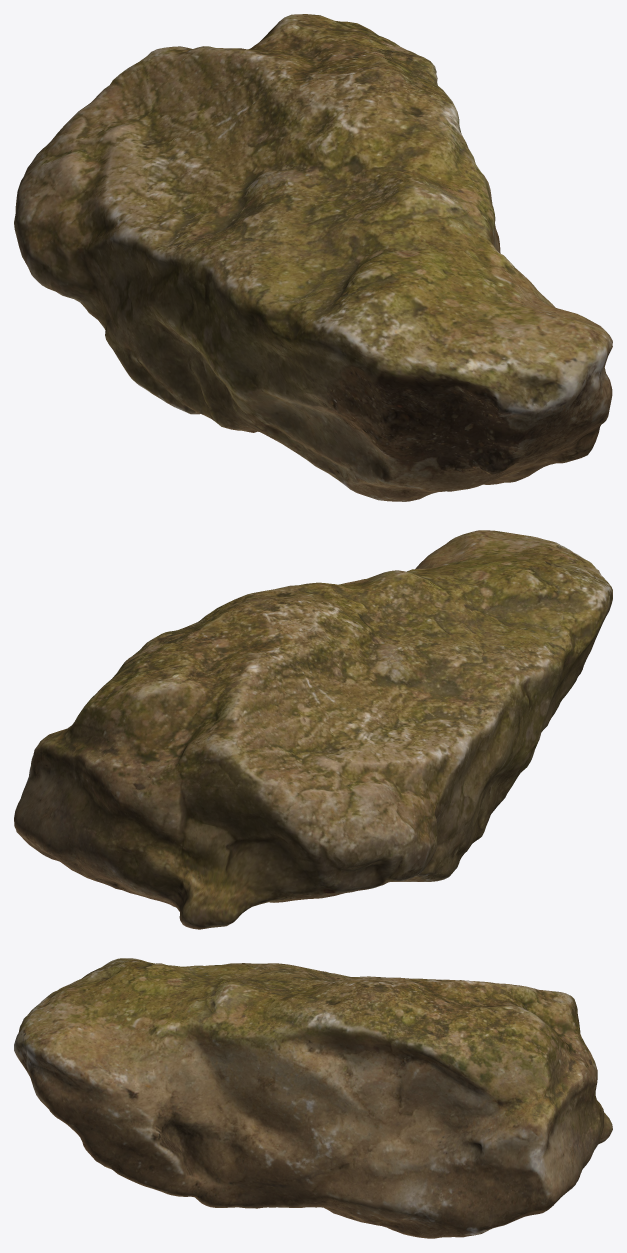
File: Rock_3.fbx
3 views of the same model, one above another, from view 1: azimuth 30°, elevation 25°; view 2: azimuth 150°, elevation 25°; view 3: azimuth 270°, elevation 25° (orthographic). The views are drawn at different scales.
Parts seen in each view (by area): view 1: Rock_3_Baked; view 2: Rock_3_Baked; view 3: Rock_3_Baked.
Boxes of the visible parts, x1,y1,x2,y2 form: Rock_3_Baked: (14, 14, 612, 501); Rock_3_Baked: (14, 530, 612, 929); Rock_3_Baked: (14, 958, 612, 1238).
Bounding box in the file's own units: 1.82 × 3 × 1.21.
Materials: 1 (1 with a texture image).
